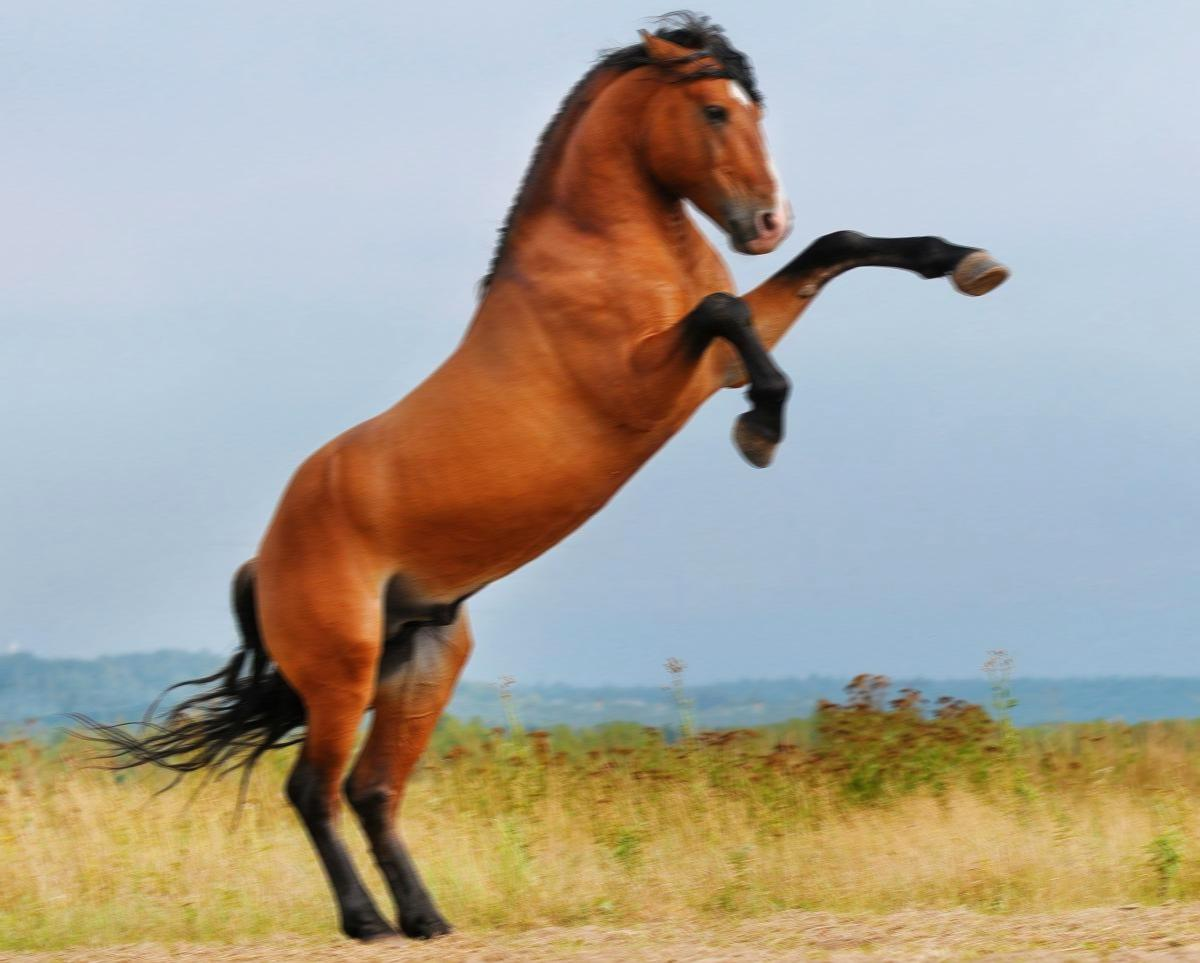horse: (60, 0, 1021, 963)
